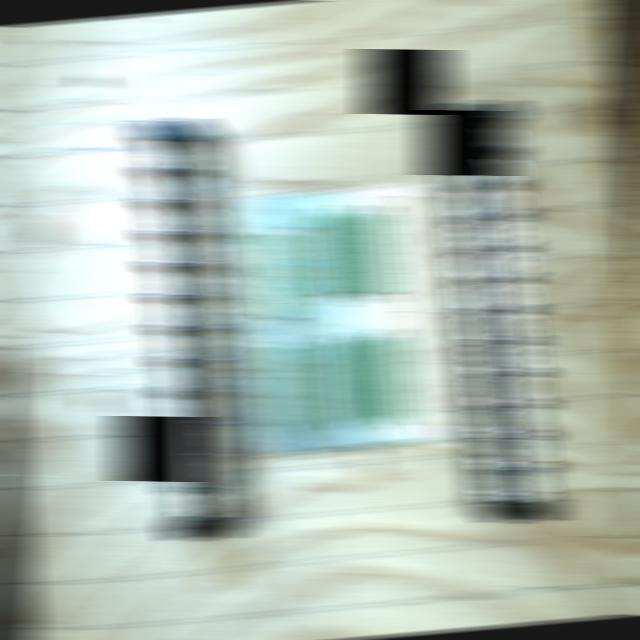Flathead_Block: (134, 116, 239, 540)
Phillips_Block: (449, 98, 558, 525)
Terminal_1: (267, 344, 308, 433), (257, 230, 297, 320)
Terminal_2: (320, 341, 361, 425), (310, 212, 350, 298), (334, 209, 374, 294), (347, 338, 386, 422), (373, 334, 412, 418)
